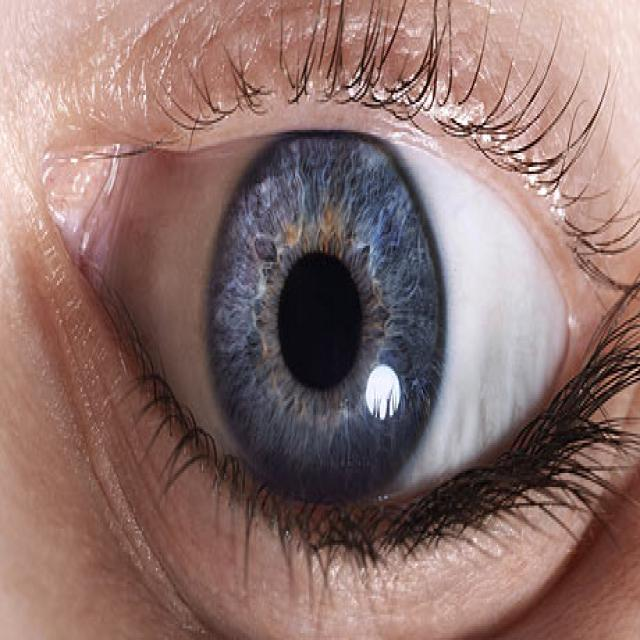Normal: (210, 120, 439, 514)
